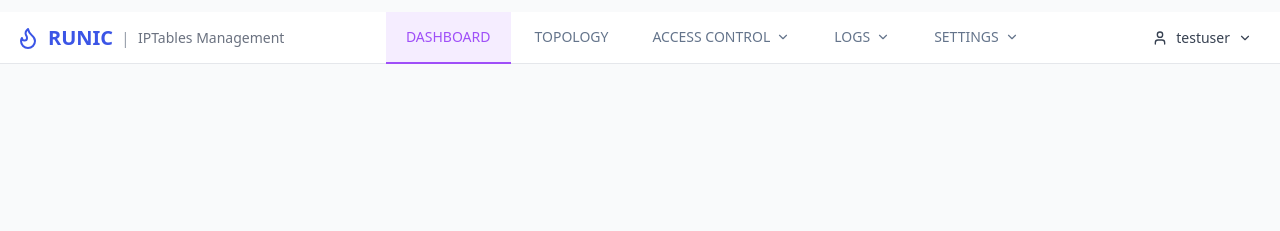
Test: TopNav › submenu hover behavior › dropdown opens on mouse enter
This screenshot has width=1280, height=231.
Simulate mouse enter
Hover over the element showing "Access Control".
mouse_move(721, 38)  # box [632, 12, 810, 64]
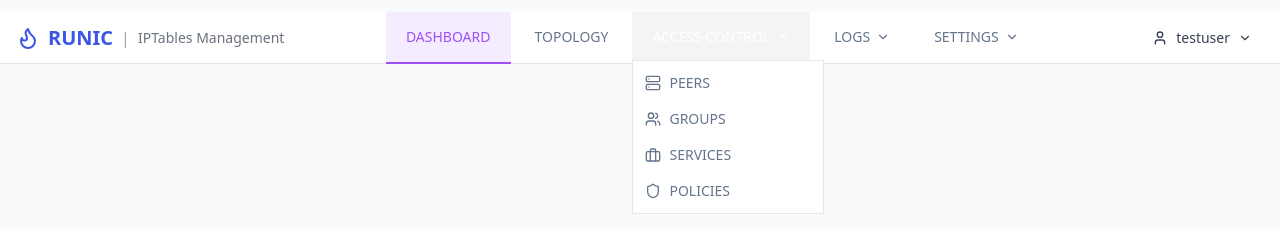
Now the text "Peers" is shown, box [670, 72, 710, 92]
Now the text "Groups" is shown, box [670, 108, 726, 128]
Now the text "Services" is shown, box [670, 144, 731, 164]
